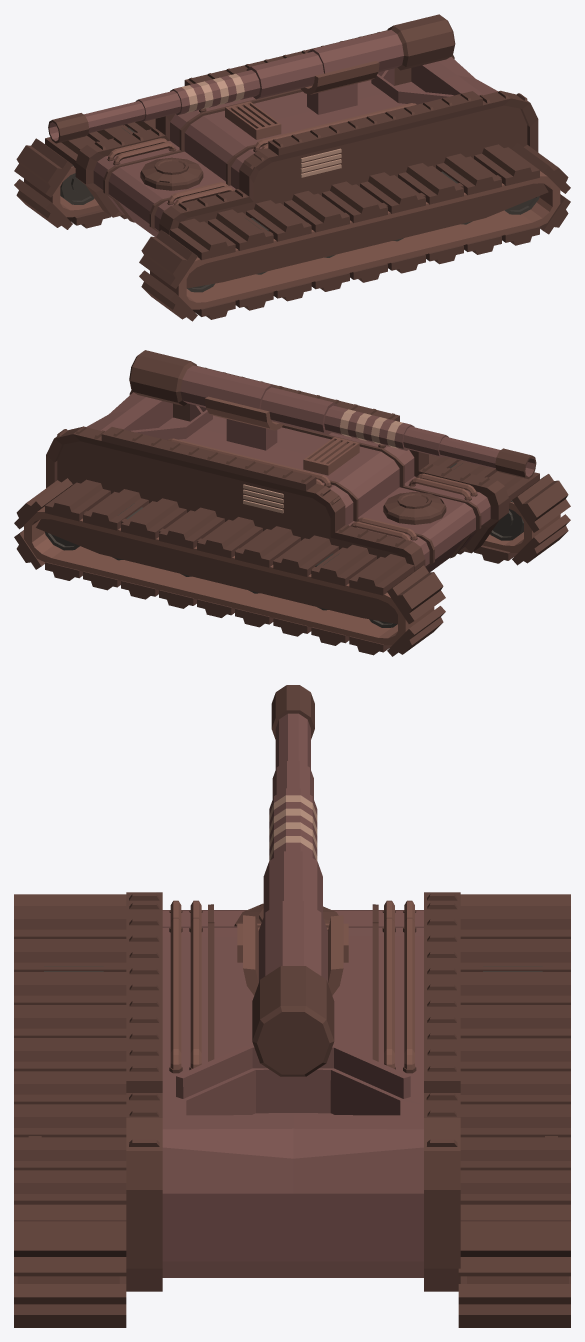
Rendered from Tank4.glb.
3 views of the same model, one above another, from view 1: azimuth 30°, elevation 25°; view 2: azimuth 150°, elevation 25°; view 3: azimuth 270°, elevation 25° (orthographic). The views are drawn at different scales.
Visible parts, largest first — view 1: Tank_body.001, TrackMesh.L, Tank_Gun, TrackMesh.R, Tank_Turret; view 2: Tank_body.001, TrackMesh.R, Tank_Gun, TrackMesh.L, Tank_Turret; view 3: Tank_body.001, TrackMesh.L, TrackMesh.R, Tank_Gun, Tank_Turret.
Part boxes in pixels (x1,y1,x2,y2): Tank_body.001: (24,30,560,309); TrackMesh.L: (139,143,570,321); Tank_Gun: (48,14,455,143); TrackMesh.R: (14,119,155,229); Tank_Turret: (301,61,379,114); Tank_body.001: (24,366,560,645); TrackMesh.R: (14,478,445,656); Tank_Gun: (129,350,536,479); TrackMesh.L: (429,454,570,565); Tank_Turret: (205,396,283,450); Tank_body.001: (17,892,568,1291); TrackMesh.L: (14,894,126,1327); TrackMesh.R: (458,894,570,1327); Tank_Gun: (252,685,334,1076); Tank_Turret: (243,915,343,995).
Size of the model in its own units: 16.14 by 5.98 by 9.98.
